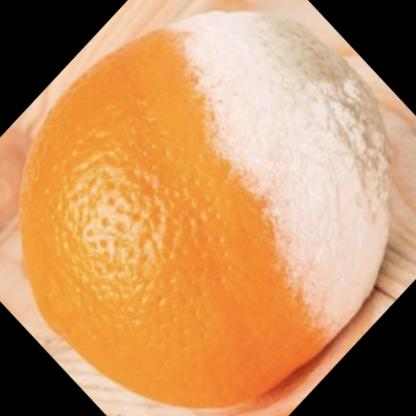rotten: (20, 9, 394, 411)
